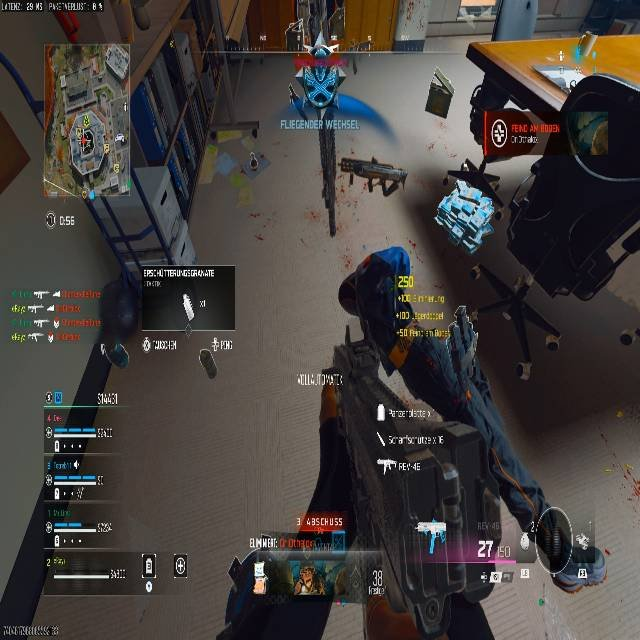head: (469, 80, 550, 166)
player: (321, 85, 638, 639), (285, 54, 345, 129)
